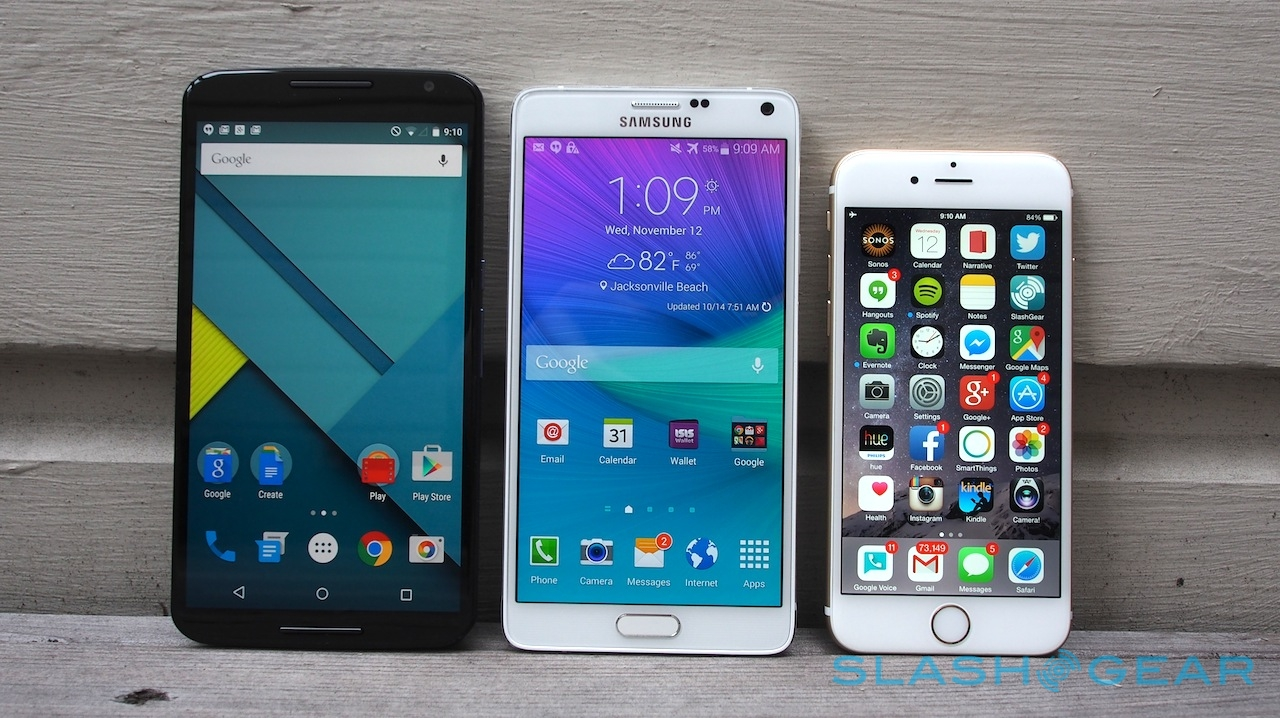smartphone: (169, 67, 485, 652), (501, 86, 801, 657), (825, 150, 1075, 655)
